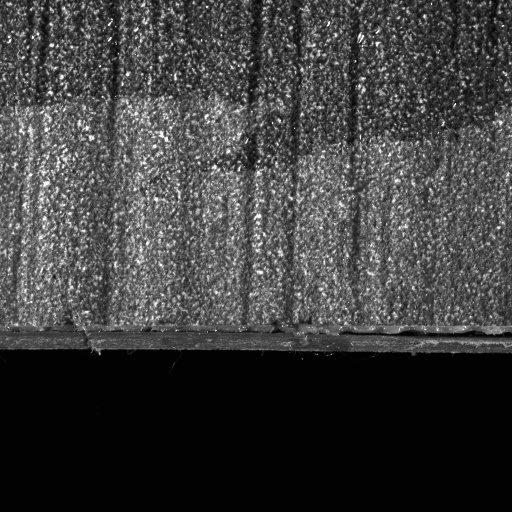kaijiao: (271, 319, 511, 358)
